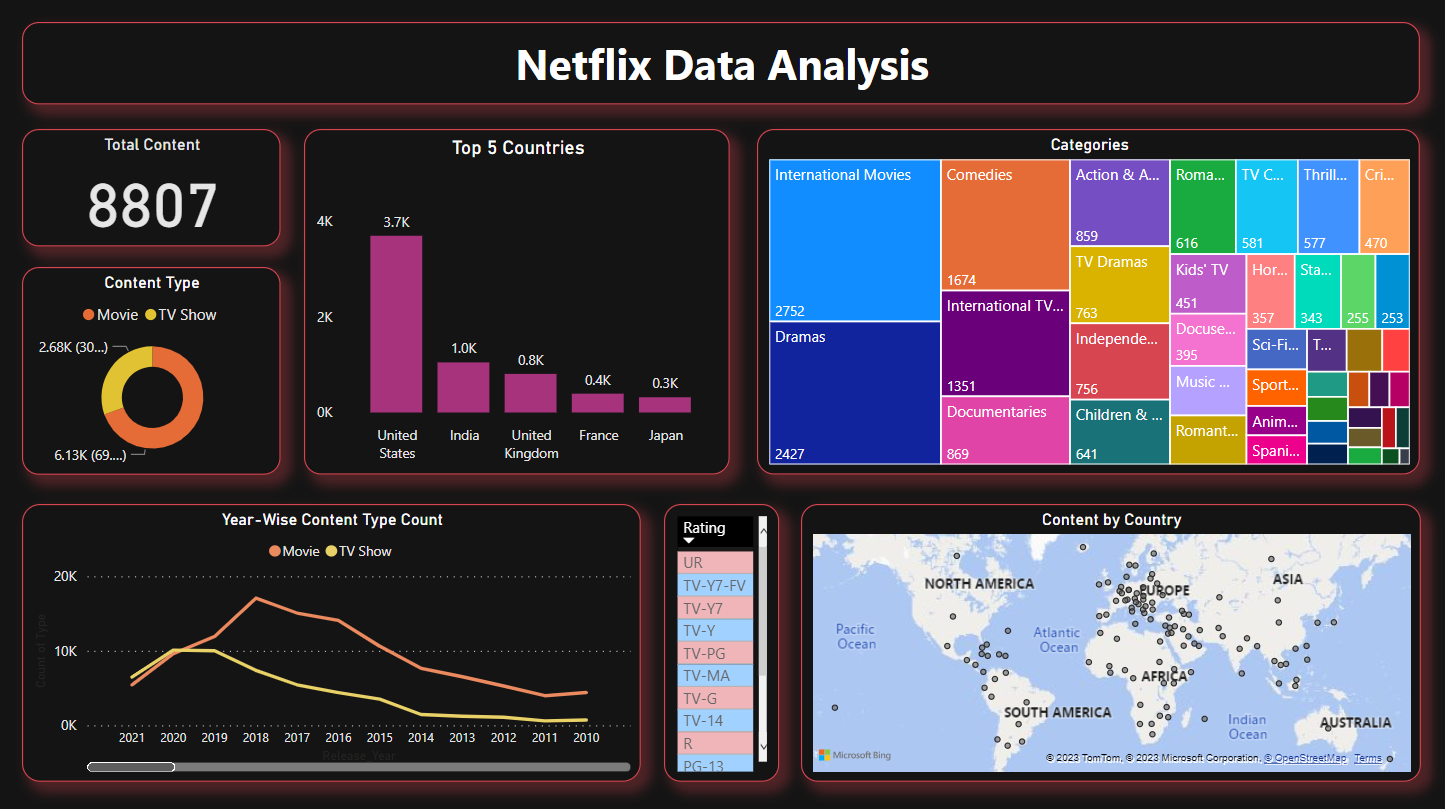

This screenshot's page, from the dashboard's own definition file:
{"tool":"powerbi","page":{"name":"Page 1","canvas":[1280,720],"ordinal":0},"visuals":[{"type":"lineChart","title":"Year-Wise Content Type Count","fields":{"Category":["Project.Document.release_year"],"Series":["Project.Document.type"],"Y":["CountNonNull(Project.Type)"]},"box":[19.5,449.4,547.6,246.1],"z":0},{"type":"clusteredColumnChart","title":"Top 5 Countries","fields":{"Category":["Project.Document.country"],"Y":["Count(Project.id)"]},"box":[269.4,116.7,377.4,306.4],"z":2000},{"type":"treemap","title":"Categories","fields":{"Group":["Project.Listed_In"],"Values":["Count(Project.id)"]},"box":[670.2,116.7,587.5,306.4],"z":3000},{"type":"donutChart","title":"Content Type","fields":{"Category":["Project.Type"],"Y":["Count(Project.id)"]},"box":[19.5,239.3,228.6,183.8],"z":3001},{"type":"card","title":"Total Content","fields":{"Values":["Count(Project.id)"]},"box":[19.5,116.7,228.6,104.1],"z":3002},{"type":"map","title":"Content by Country","fields":{"Category":["Project.Country"]},"box":[709.1,449.4,548.6,246.1],"z":3003},{"type":"tableEx","title":"Rating","fields":{"Values":["Project.Rating"]},"box":[588.4,449.4,102.1,246.1],"z":3004},{"type":"textbox","box":[19.5,22.4,1238.2,72.9],"z":3005}]}

Visuals, with their boxes in screenshot pixels (x1, y1, x2, y2), scaled from the page's 1280x720 canvas onto the 1445x809 screenshot:
"Year-Wise Content Type Count" lineChart: <region>22, 505, 640, 781</region>
"Top 5 Countries" clusteredColumnChart: <region>304, 131, 730, 475</region>
"Categories" treemap: <region>757, 131, 1420, 475</region>
"Content Type" donutChart: <region>22, 269, 280, 475</region>
"Total Content" card: <region>22, 131, 280, 248</region>
"Content by Country" map: <region>801, 505, 1420, 781</region>
"Rating" tableEx: <region>664, 505, 780, 781</region>
textbox: <region>22, 25, 1420, 107</region>
